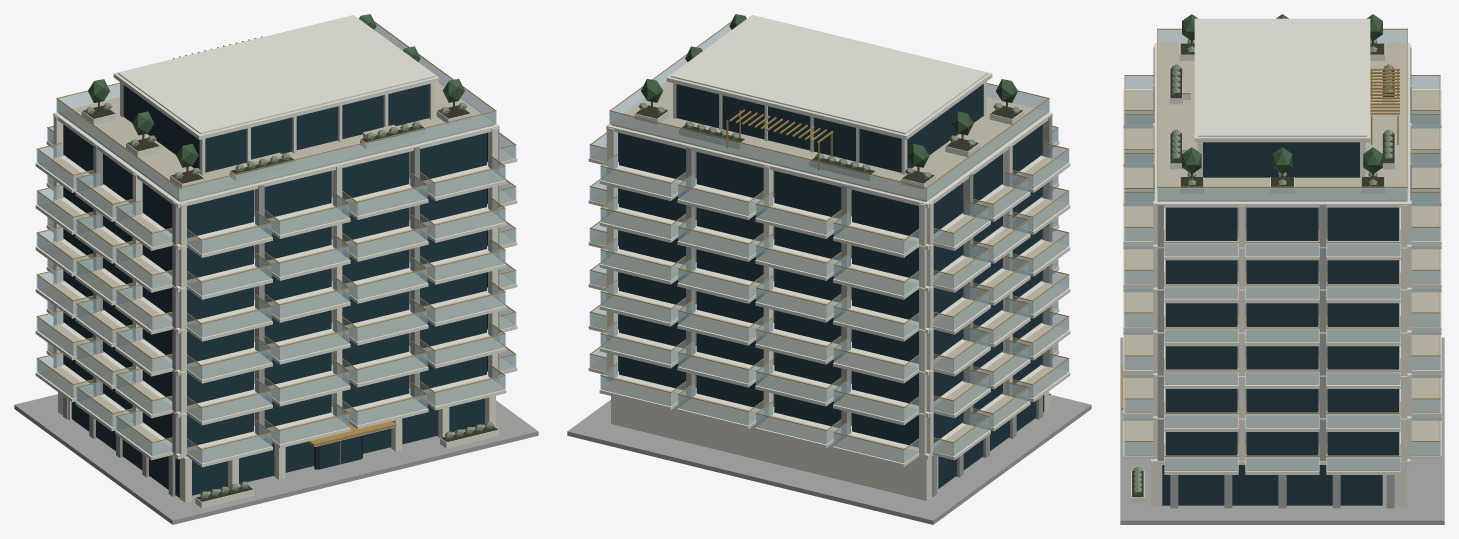
Rendered from residence-lod1.glb.
3 renders of one model, left to right at view 1: azimuth 30°, elevation 25°; view 2: azimuth 150°, elevation 25°; view 3: azimuth 270°, elevation 25°, orthographic. The views are drawn at different scales.
Visible parts, largest first — view 1: 1_white, 1_glazing, 1_glass, 1_paving, 1_concrete, 1_gold, 1_foliage, 1_soil, 1_leaf; view 2: 1_white, 1_glass, 1_glazing, 1_paving, 1_concrete, 1_gold, 1_foliage, 1_soil, 1_leaf; view 3: 1_white, 1_glazing, 1_paving, 1_glass, 1_concrete, 1_gold, 1_foliage, 1_leaf, 1_soil.
Boxes of the visible parts, <box> form: 1_white: <box>35,15,517,508</box>; 1_glazing: <box>63,84,487,497</box>; 1_glass: <box>36,23,516,462</box>; 1_paving: <box>38,82,514,463</box>; 1_concrete: <box>14,130,538,524</box>; 1_gold: <box>36,21,516,464</box>; 1_foliage: <box>88,14,464,167</box>; 1_soil: <box>83,105,497,501</box>; 1_leaf: <box>85,103,493,498</box>; 1_white: <box>588,15,1070,500</box>; 1_glass: <box>589,23,1069,462</box>; 1_glazing: <box>618,84,1044,488</box>; 1_paving: <box>591,82,1067,463</box>; 1_concrete: <box>567,115,1091,524</box>; 1_gold: <box>589,21,1069,449</box>; 1_foliage: <box>641,14,1017,167</box>; 1_soil: <box>636,105,1050,395</box>; 1_leaf: <box>638,103,1020,178</box>; 1_white: <box>1123,18,1441,507</box>; 1_glazing: <box>1162,142,1399,505</box>; 1_paving: <box>1125,43,1439,470</box>; 1_glass: <box>1124,29,1440,470</box>; 1_concrete: <box>1120,84,1444,524</box>; 1_gold: <box>1121,28,1440,456</box>; 1_foliage: <box>1182,14,1382,173</box>; 1_leaf: <box>1133,39,1392,494</box>; 1_soil: <box>1132,43,1394,496</box>.
Bounding box in the file's own units: 32 × 29.09 × 24.
